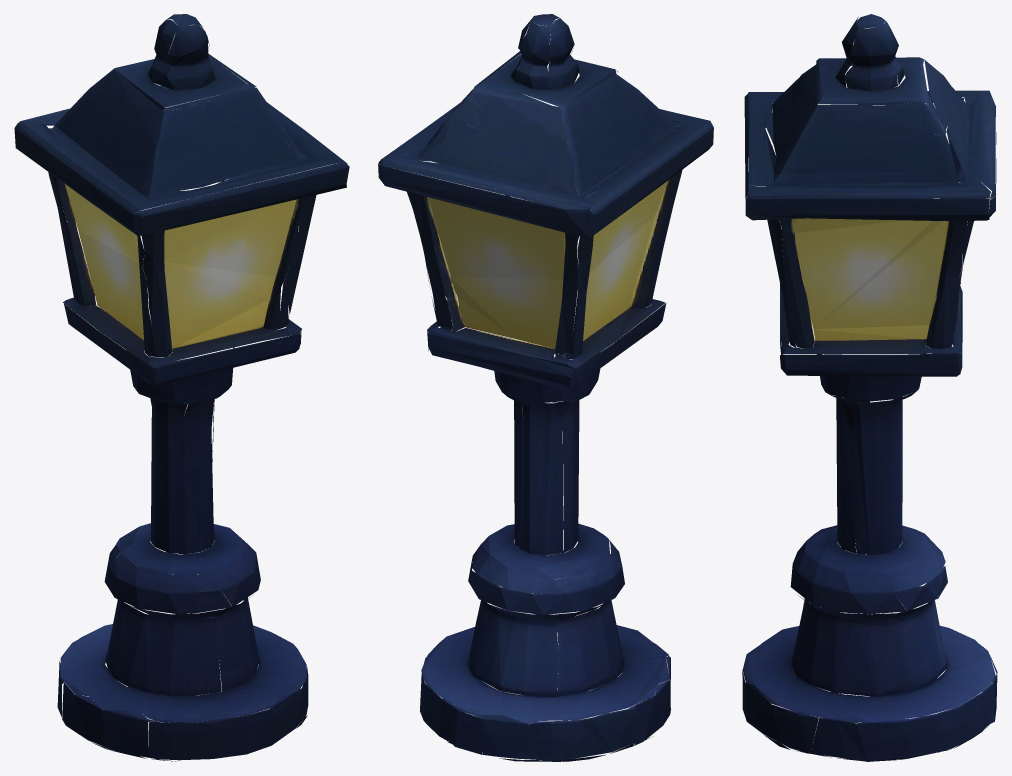
File: streetlight.glb
3 views of the same model, side by side, from view 1: azimuth 30°, elevation 25°; view 2: azimuth 150°, elevation 25°; view 3: azimuth 270°, elevation 25° (orthographic).
Parts seen in each view (by area): view 1: geometry_0; view 2: geometry_0; view 3: geometry_0.
Boxes of the visible parts, box(x1,y1,x2,y2) form: geometry_0: box(14, 14, 349, 761); geometry_0: box(378, 14, 713, 761); geometry_0: box(742, 14, 997, 761).
Size of the model in its own units: 0.3246 by 0.9924 by 0.3313.
1 material, 1 textured.
